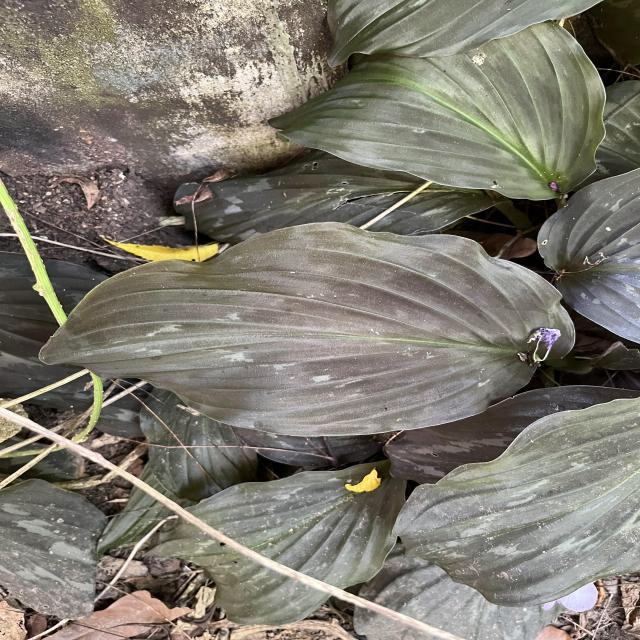Kaempferia galanga linn: (35, 217, 582, 439), (386, 392, 640, 609)
